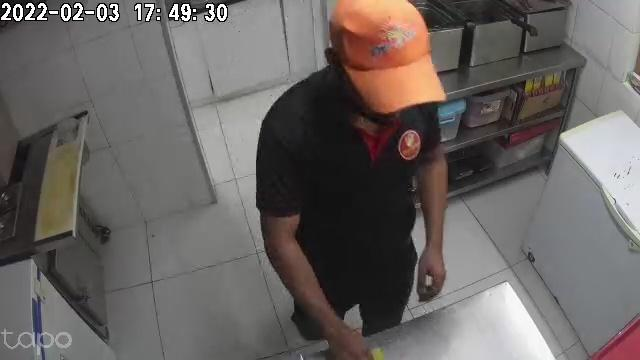no_gloves: (416, 233, 447, 300)
